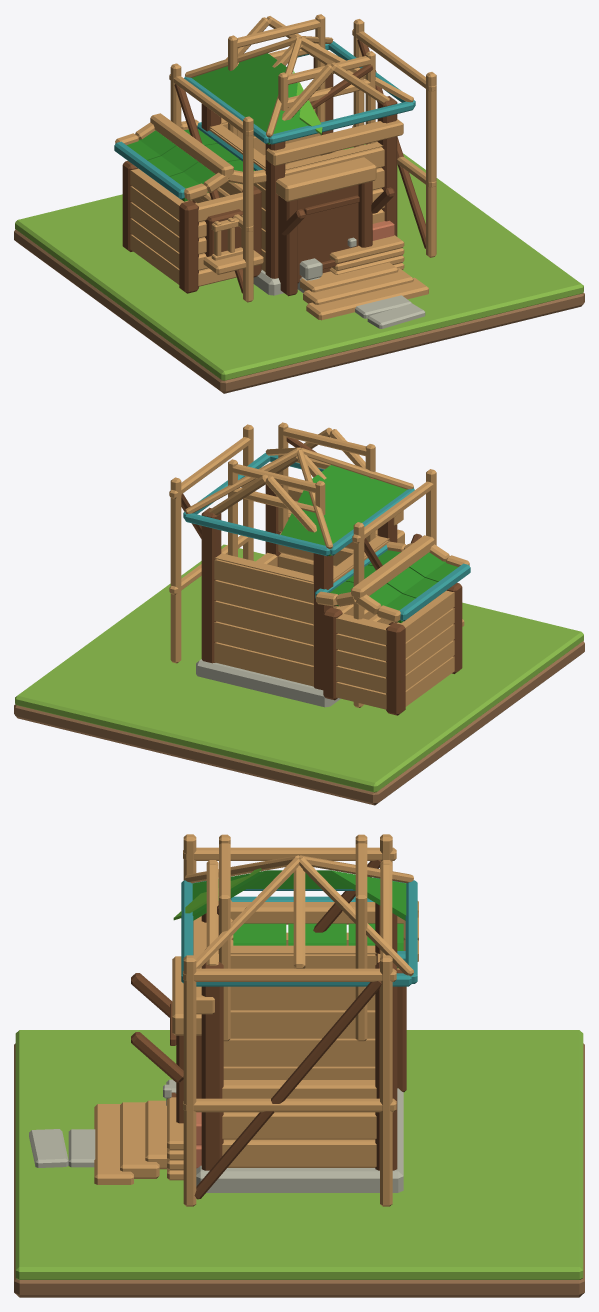
File: town_hall_l03_construction_LOD0.glb
3 views of the same model, one above another, from view 1: azimuth 30°, elevation 25°; view 2: azimuth 150°, elevation 25°; view 3: azimuth 270°, elevation 25° (orthographic). The views are drawn at different scales.
Visible parts, largest first — view 1: town_hall_l03_construction_grass_tile, town_hall_l03_construction_earth_tile, town_hall_l03_construction_door_recess, town_hall_l03_construction_floor_crossbeam, town_hall_l03_construction_door_lintel, town_hall_l03_construction_hip_roof_shingle.011, town_hall_l03_construction_scaffold_post.002, town_hall_l03_construction_scaffold_post, town_hall_l03_construction_corner_reinforcement, town_hall_l03_construction_corner_reinforcement.004, town_hall_l03_construction_entry_step.002, town_hall_l03_construction_door_jamb (+41 smaller); view 2: town_hall_l03_construction_grass_tile, town_hall_l03_construction_earth_tile, town_hall_l03_construction_foundation, town_hall_l03_construction_corner_reinforcement.003, town_hall_l03_construction_hip_roof_shingle.011, town_hall_l03_construction_wall_siding.001, town_hall_l03_construction_wall_siding.005, town_hall_l03_construction_wall_siding.013, town_hall_l03_construction_wall_siding.017, town_hall_l03_construction_wall_siding.009, town_hall_l03_construction_scaffold_post.003, town_hall_l03_construction_corner_reinforcement.005 (+40 smaller); view 3: town_hall_l03_construction_grass_tile, town_hall_l03_construction_earth_tile, town_hall_l03_construction_foundation, town_hall_l03_construction_wall_siding.003, town_hall_l03_construction_wall_siding.006, town_hall_l03_construction_wall_siding.007, town_hall_l03_construction_corner_reinforcement.002, town_hall_l03_construction_wall_siding.010, town_hall_l03_construction_scaffold_post.002, town_hall_l03_construction_wall_siding.014, town_hall_l03_construction_scaffold_brace.001, town_hall_l03_construction_scaffold_post.003 (+39 smaller).
Part boxes in pixels (x1,y1,x2,y2): town_hall_l03_construction_grass_tile: (15, 144, 583, 380); town_hall_l03_construction_earth_tile: (14, 229, 584, 393); town_hall_l03_construction_door_recess: (297, 184, 358, 283); town_hall_l03_construction_floor_crossbeam: (266, 119, 403, 165); town_hall_l03_construction_door_lintel: (276, 157, 376, 201); town_hall_l03_construction_hip_roof_shingle.011: (192, 67, 274, 144); town_hall_l03_construction_scaffold_post.002: (426, 72, 436, 257); town_hall_l03_construction_scaffold_post: (243, 116, 253, 302); town_hall_l03_construction_corner_reinforcement: (265, 141, 285, 278); town_hall_l03_construction_corner_reinforcement.004: (179, 201, 198, 293); town_hall_l03_construction_entry_step.002: (306, 277, 428, 320); town_hall_l03_construction_door_jamb: (278, 195, 297, 296); town_hall_l03_construction_grass_tile: (15, 544, 583, 792); town_hall_l03_construction_earth_tile: (14, 641, 584, 805); town_hall_l03_construction_foundation: (196, 659, 340, 707); town_hall_l03_construction_corner_reinforcement.003: (201, 507, 221, 663); town_hall_l03_construction_hip_roof_shingle.011: (324, 479, 406, 555); town_hall_l03_construction_wall_siding.001: (214, 642, 313, 686); town_hall_l03_construction_wall_siding.005: (214, 621, 313, 665); town_hall_l03_construction_wall_siding.013: (214, 580, 313, 624); town_hall_l03_construction_wall_siding.017: (214, 559, 313, 603); town_hall_l03_construction_wall_siding.009: (214, 600, 313, 644); town_hall_l03_construction_scaffold_post.003: (170, 477, 181, 663); town_hall_l03_construction_corner_reinforcement.005: (386, 623, 405, 715); town_hall_l03_construction_grass_tile: (15, 1030, 583, 1279); town_hall_l03_construction_earth_tile: (14, 1043, 584, 1297); town_hall_l03_construction_foundation: (196, 1088, 403, 1192); town_hall_l03_construction_wall_siding.003: (222, 1139, 376, 1167); town_hall_l03_construction_wall_siding.006: (223, 1038, 375, 1066); town_hall_l03_construction_wall_siding.007: (222, 1112, 376, 1139); town_hall_l03_construction_corner_reinforcement.002: (201, 962, 223, 1170); town_hall_l03_construction_wall_siding.010: (230, 1010, 375, 1038); town_hall_l03_construction_scaffold_post.002: (183, 955, 196, 1206); town_hall_l03_construction_wall_siding.014: (230, 986, 375, 1010); town_hall_l03_construction_scaffold_brace.001: (194, 981, 381, 1199); town_hall_l03_construction_scaffold_post.003: (380, 955, 392, 1206).
Size of the model in its own units: 3.6 by 2.24 by 3.6.
